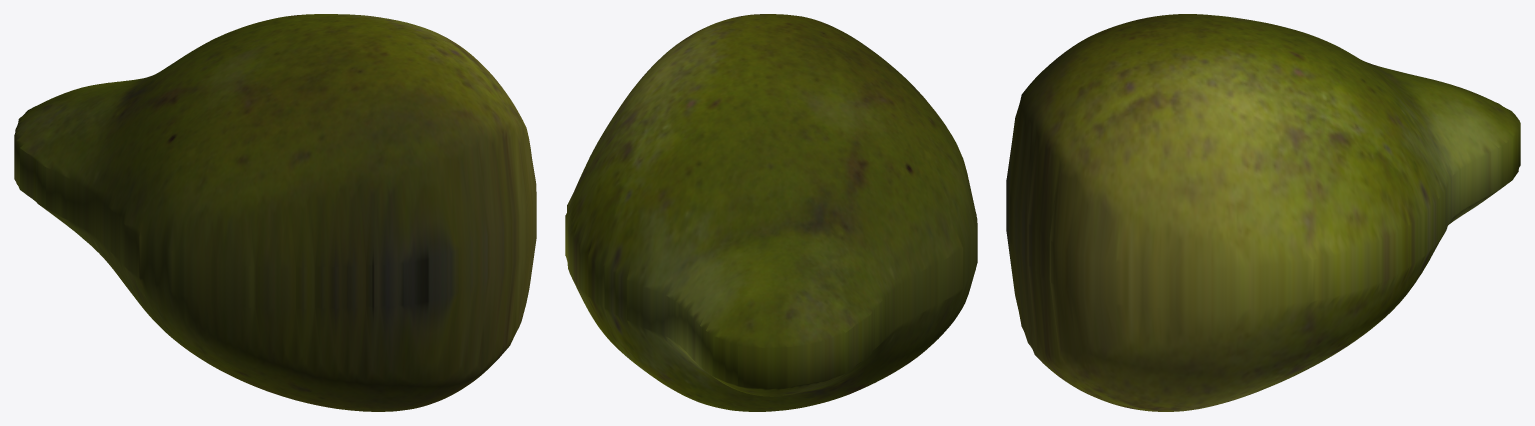
File: green pear_2_2.obj
The picture shows the model from 3 angles, left to right: view 1: azimuth 30°, elevation 25°; view 2: azimuth 150°, elevation 25°; view 3: azimuth 270°, elevation 25°; orthographic projection. The views are drawn at different scales.
Visible parts, largest first — view 1: Grid; view 2: Grid; view 3: Grid.
Boxes of the visible parts, x1,y1,x2,y2 form: Grid: (14,14,536,411); Grid: (565,14,977,411); Grid: (1006,14,1520,411).
Size of the model in its own units: 1.3 by 1.2 by 1.58.
1 material, 1 textured.
